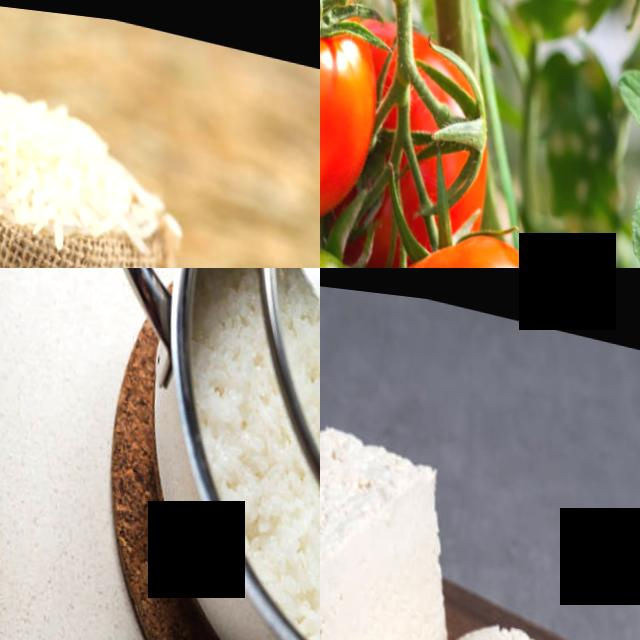tofu: (320, 374, 462, 640), (328, 581, 594, 640)
tomato: (320, 0, 395, 241), (347, 194, 573, 268)
white rice: (0, 69, 150, 220), (264, 268, 320, 640)
